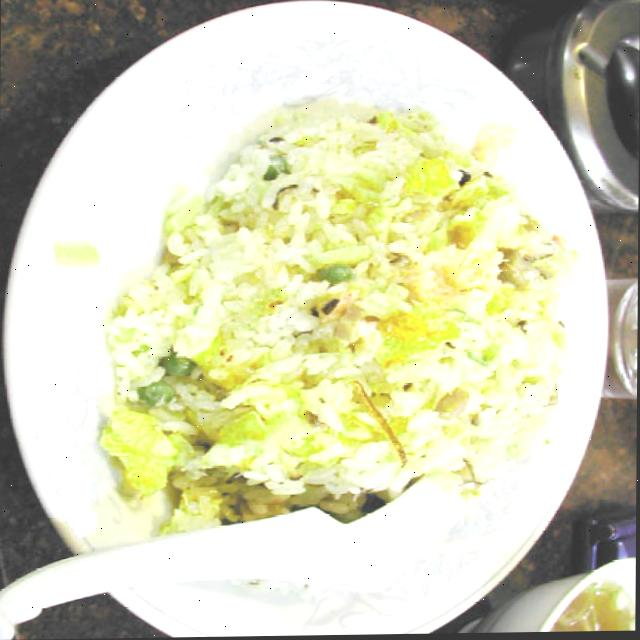米饭主食: (8, 0, 612, 640)
